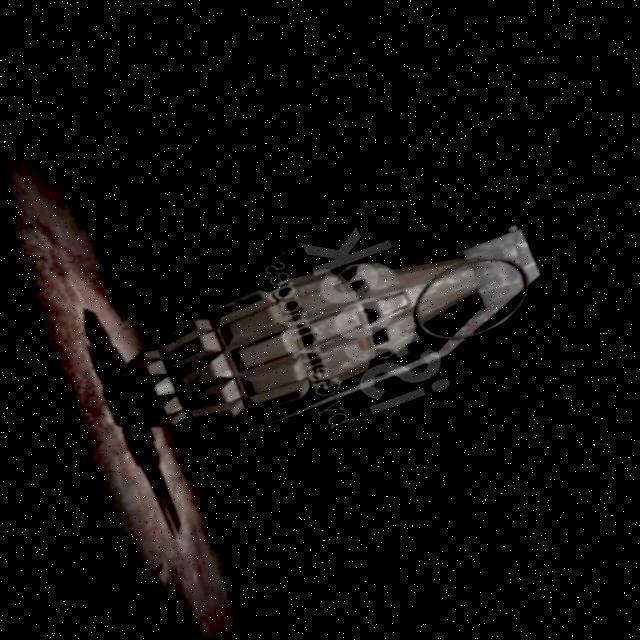grenade: (61, 185, 590, 474)
